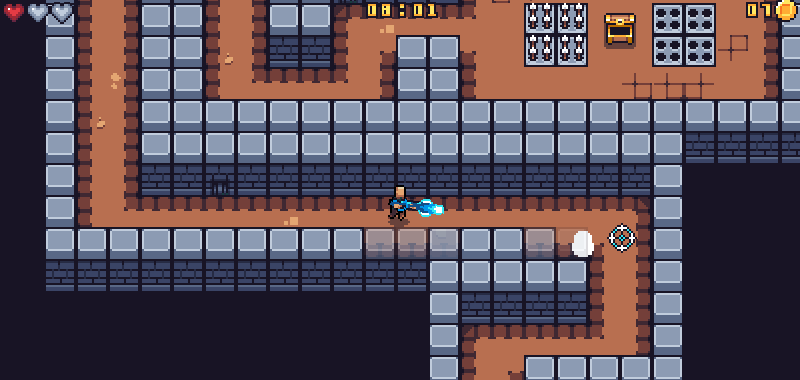trap_off: (653, 3, 715, 65)
trap_on: (524, 4, 589, 66)
treasury_open: (603, 12, 637, 47)
